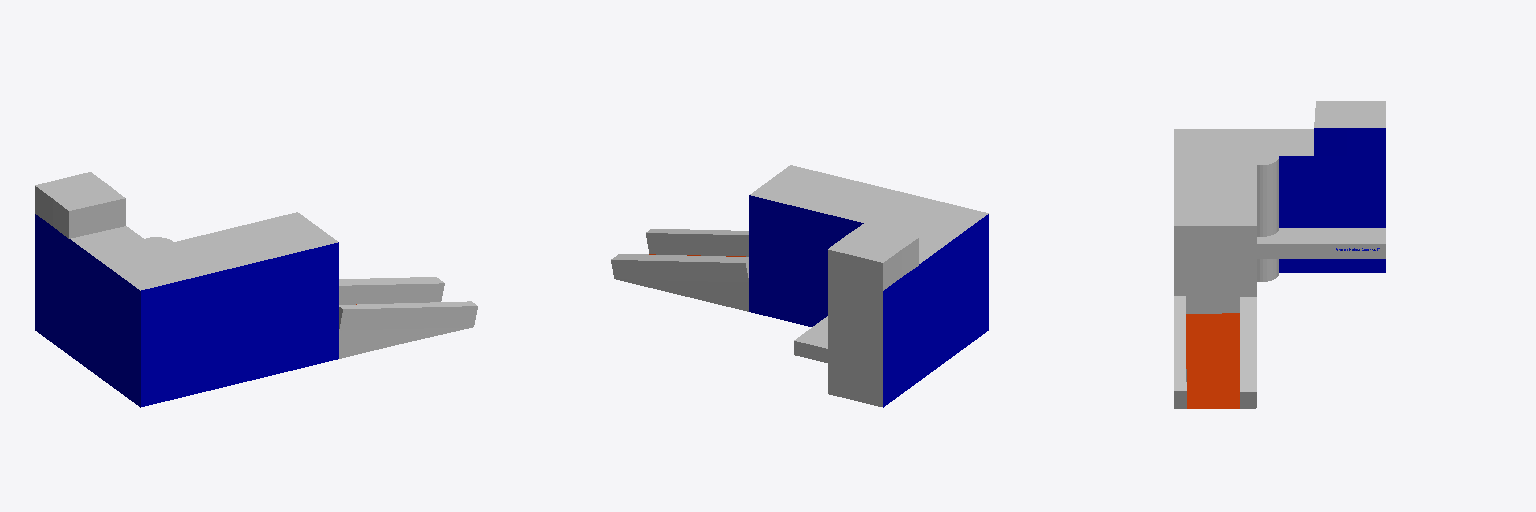
Rendered from 파팔라도.obj.
3 views of the same model, side by side, from view 1: azimuth 30°, elevation 25°; view 2: azimuth 150°, elevation 25°; view 3: azimuth 270°, elevation 25° (orthographic).
Parts seen in each view (by area): view 1: 큐브_큐브.001; view 2: 큐브_큐브.001; view 3: 큐브_큐브.001, 실린더.
Boxes of the visible parts, x1,y1,x2,y2 form: 큐브_큐브.001: [35, 172, 477, 407]; 큐브_큐브.001: [611, 165, 988, 407]; 큐브_큐브.001: [1174, 101, 1385, 408]; 실린더: [1241, 149, 1278, 281].
Bounding box in the file's own units: 60.6 × 24.95 × 32.86.